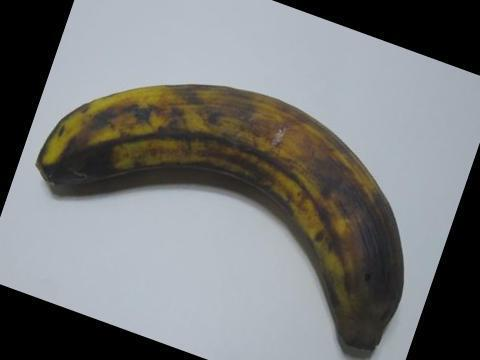overripe: (30, 74, 406, 359)
